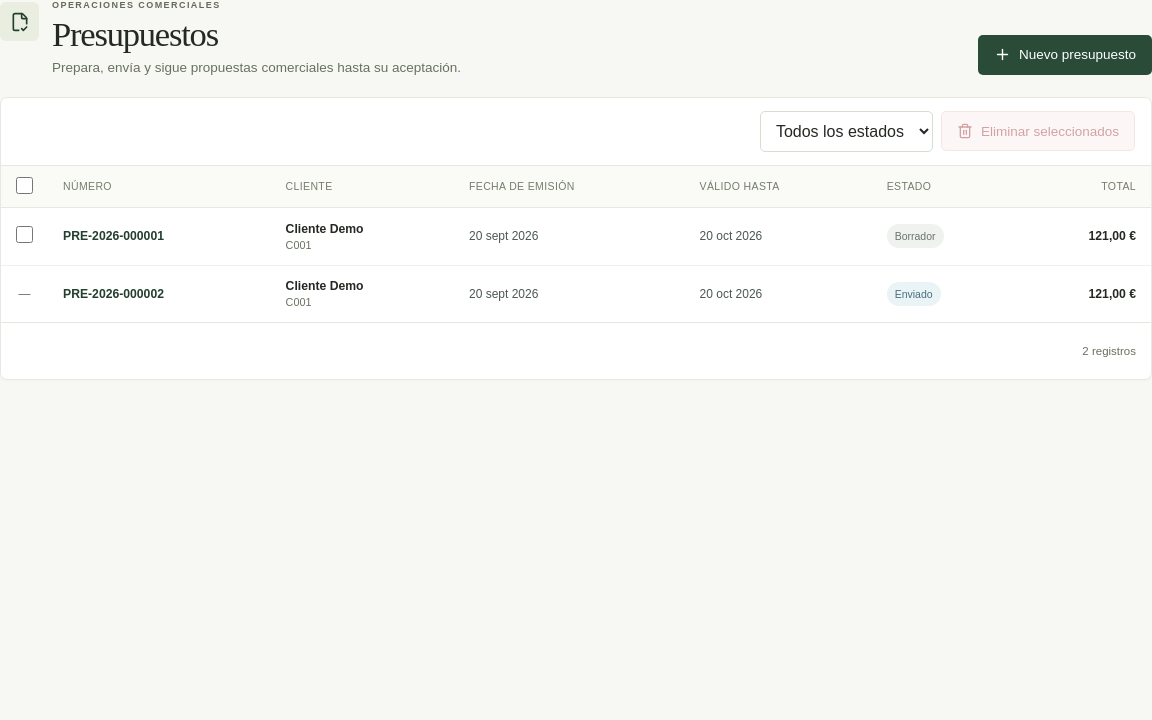
Test: only lets drafts be selected and deletes them after confirmation
Click the checkbox named "Seleccionar el presupuesto PRE-2026-000001" at (24, 235), box [16,226,33,244]
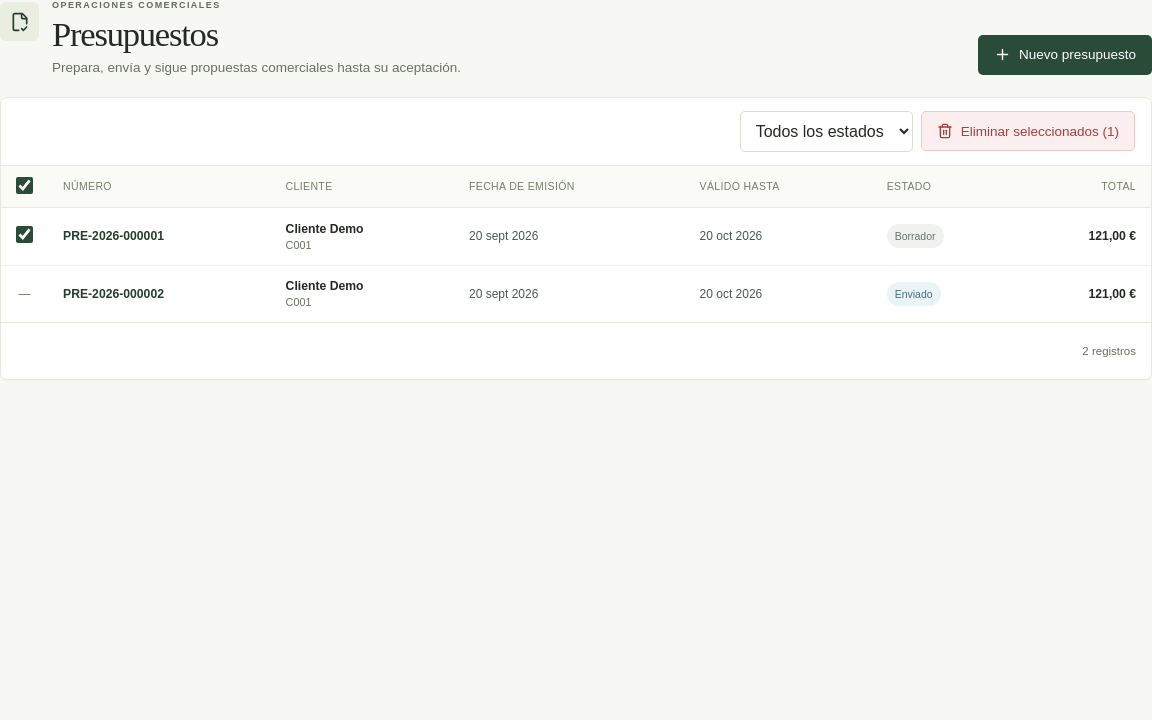
Click the button "Eliminar seleccionados (1)" at (1028, 131), box [921,111,1135,151]
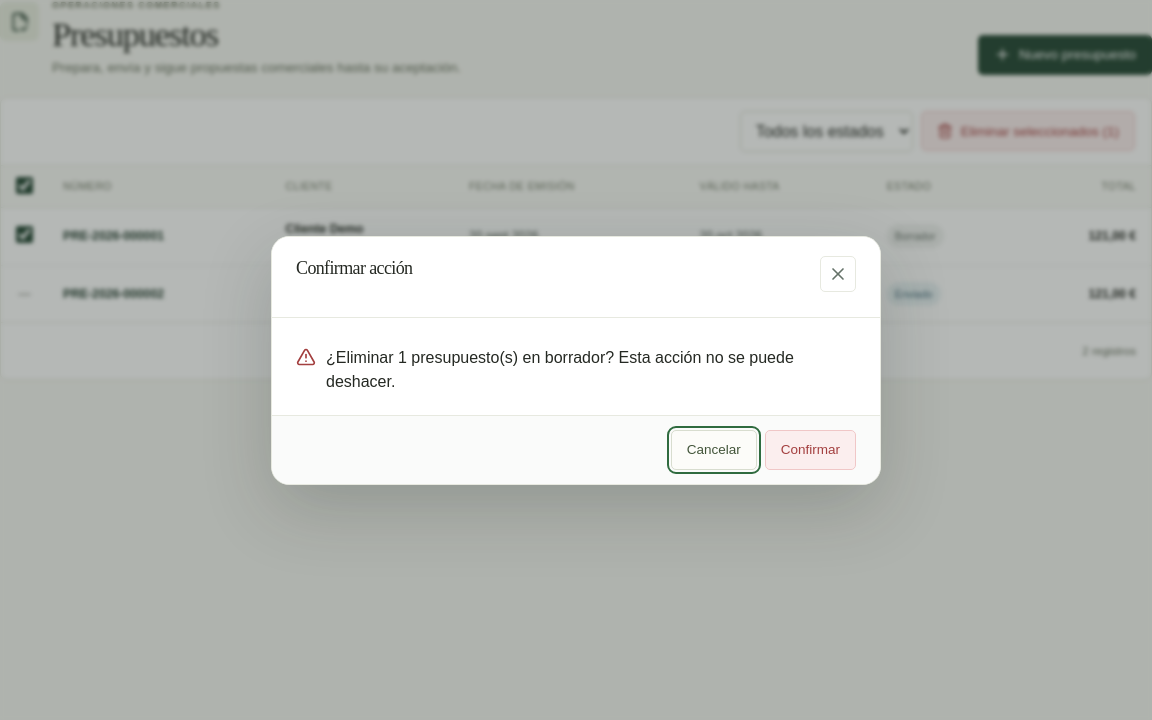
Check: the dialog "Confirmar acción" shows "¿Eliminar 1 presupuesto(s) en borrador?", box [326,348,794,390]
Click the button "Confirmar" at (810, 450), box [765,430,856,470]
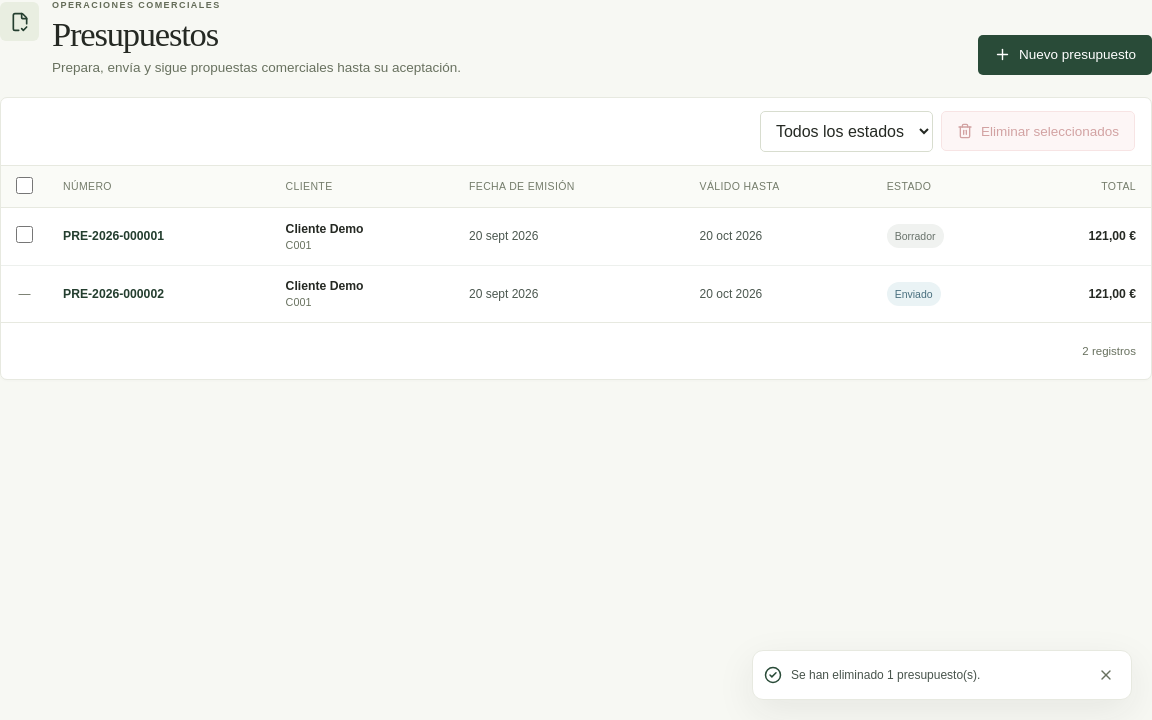
Check: the text "Se han eliminado 1 presupuesto(s)." is shown, box [791,668,980,682]
